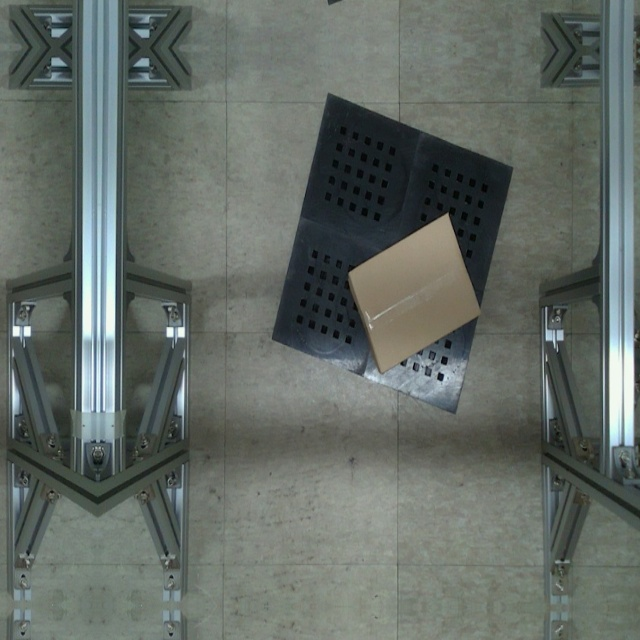box: (346, 207, 484, 378)
pallet: (264, 86, 519, 423)
